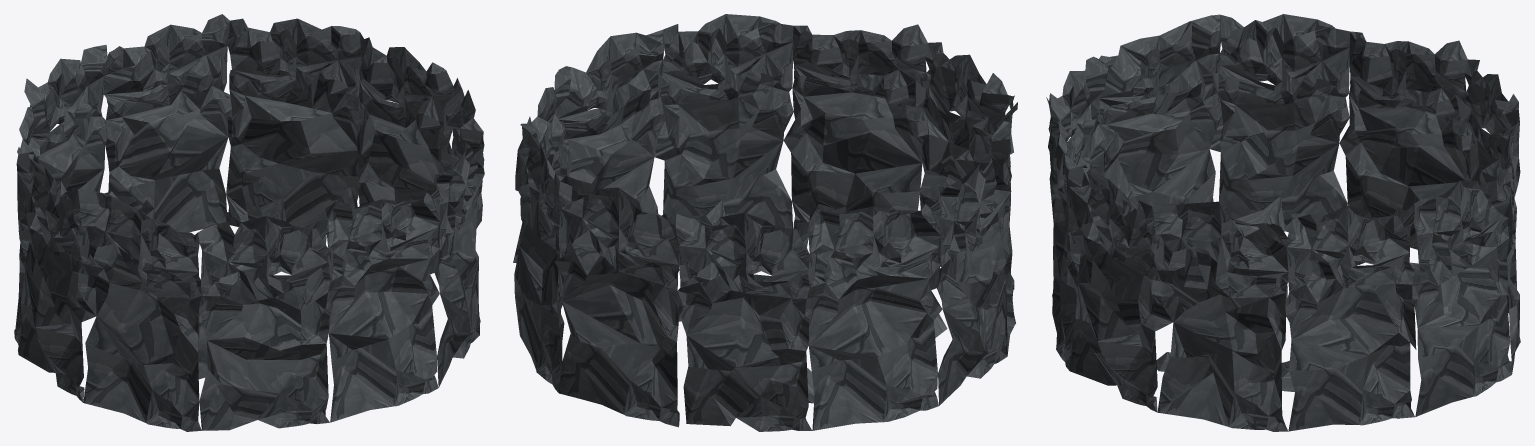
File: fbx_roche.fbx
3 views of the same model, side by side, from view 1: azimuth 30°, elevation 25°; view 2: azimuth 150°, elevation 25°; view 3: azimuth 270°, elevation 25° (orthographic). The views are drawn at different scales.
Visible parts, largest first — view 1: pierre7; view 2: pierre7; view 3: pierre7.
Boxes of the visible parts, x1,y1,x2,y2 form: pierre7: (14,14,484,431); pierre7: (513,14,1017,431); pierre7: (1046,14,1520,431).
Bounding box in the file's own units: 40.1 × 20.44 × 39.
